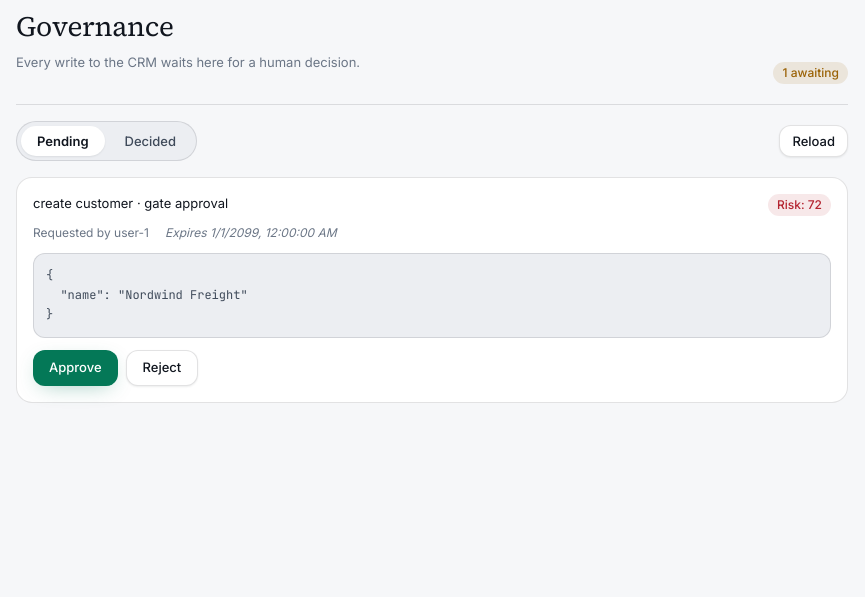
Test case: ApprovalQueue › Approve decides the draft, and never the run
This screenshot has width=865, height=597.
What coordinates should you click on to do the following:
click the button "Approve"
I would click on:
 (75, 368)
Its box is [33, 350, 118, 386].
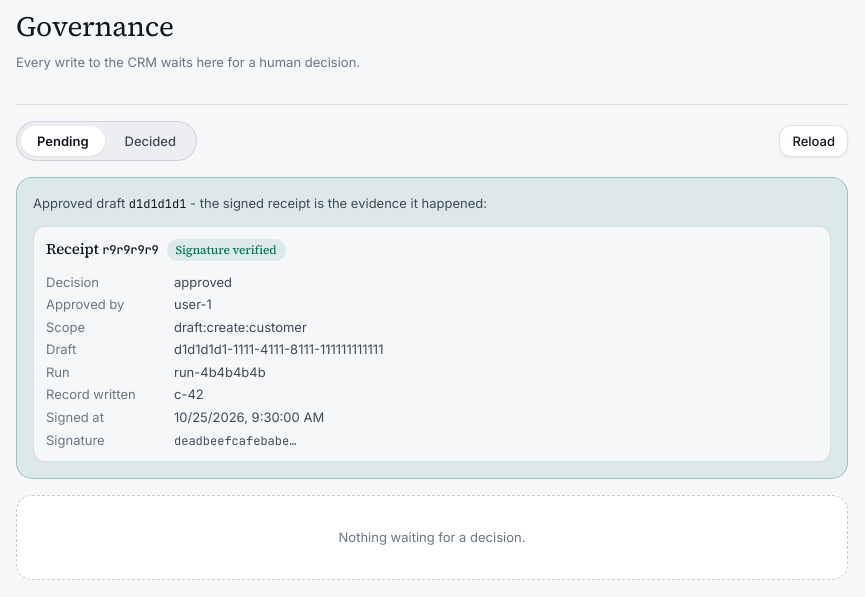
Expected: the text "Nothing waiting for a decision." is shown, [16, 495, 848, 580]
Expected: the text "Signature verified" is shown, [167, 239, 286, 261]
Expected: the text "the signed receipt is the evidence" is shown, [186, 196, 487, 212]
